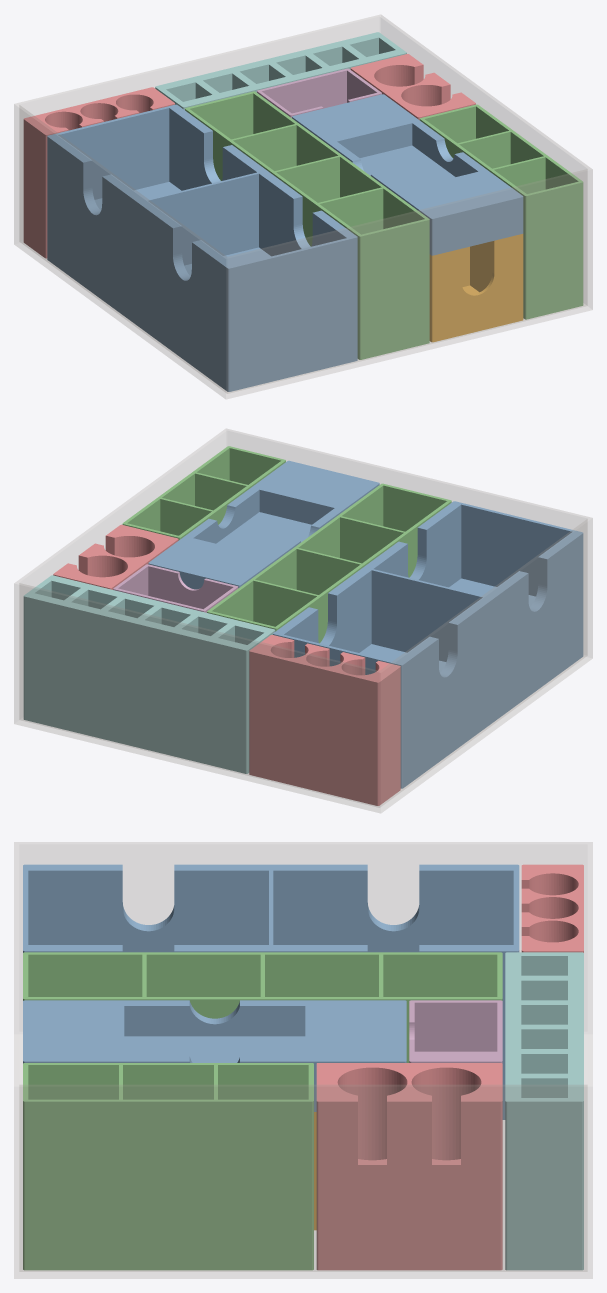
File: organizer.glb
3 views of the same model, one above another, from view 1: azimuth 30°, elevation 25°; view 2: azimuth 150°, elevation 25°; view 3: azimuth 270°, elevation 25° (orthographic). The views are drawn at different scales.
Parts seen in each view (by area): view 1: Game box (preview only), Market cards, Player pieces, Event cards, Resource cubes, Land tiles, Dice, Victory tokens, Coins, First player marker; view 2: Game box (preview only), Market cards, Dice, Victory tokens, Player pieces, Event cards, Resource cubes, Coins, First player marker; view 3: Game box (preview only), Resource cubes, Market cards, Coins, Dice, Player pieces, Event cards, First player marker, Victory tokens.
Boxes of the visible parts, <box> form: Game box (preview only): <box>14,14,592,399</box>; Market cards: <box>47,104,357,391</box>; Player pieces: <box>185,91,429,359</box>; Event cards: <box>292,94,523,255</box>; Resource cubes: <box>419,104,583,319</box>; Land tiles: <box>429,234,523,342</box>; Dice: <box>155,32,406,109</box>; Victory tokens: <box>23,87,174,258</box>; Coins: <box>350,54,475,119</box>; First player marker: <box>257,68,381,117</box>; Game box (preview only): <box>14,428,592,813</box>; Market cards: <box>273,501,583,788</box>; Dice: <box>23,575,275,773</box>; Victory tokens: <box>249,635,400,805</box>; Player pieces: <box>207,483,451,643</box>; Event cards: <box>148,460,379,589</box>; Resource cubes: <box>122,446,285,540</box>; Coins: <box>53,524,178,589</box>; First player marker: <box>113,564,238,612</box>; Game box (preview only): <box>14,842,592,1278</box>; Resource cubes: <box>23,1063,313,1270</box>; Market cards: <box>23,864,519,1119</box>; Coins: <box>316,1063,502,1270</box>; Dice: <box>505,952,583,1270</box>; Player pieces: <box>23,952,502,1062</box>; Event cards: <box>23,1000,406,1111</box>; First player marker: <box>409,1000,502,1063</box>; Victory tokens: <box>521,864,583,952</box>.
Size of the model in its own units: 0.224 by 0.082 by 0.224.
